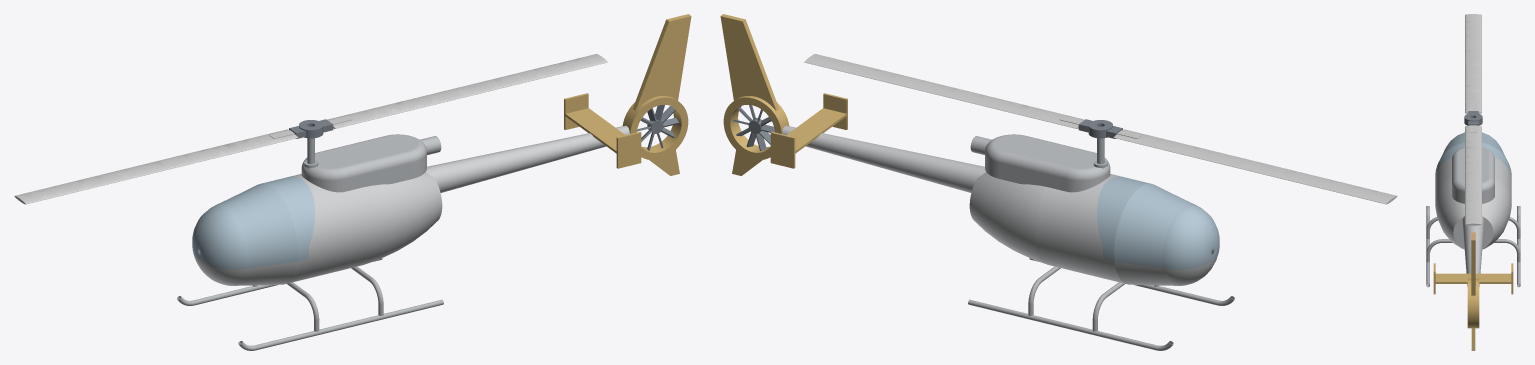
File: step_54.glb
The picture shows the model from 3 angles, left to right: view 1: azimuth 30°, elevation 25°; view 2: azimuth 150°, elevation 25°; view 3: azimuth 270°, elevation 25°; orthographic projection. The views are drawn at different scales.
Visible parts, largest first — view 1: part__fuselage, part__canopy glazing, part__engine cowling, part__fin and fan duct, part__tail boom, part__main rotor blade 2, part__main rotor blade 1, part__horizontal stabiliser, part__skid left, part__tail fan, part__main rotor hub, part__skid right; view 2: part__fuselage, part__canopy glazing, part__engine cowling, part__fin and fan duct, part__tail boom, part__main rotor blade 2, part__main rotor blade 1, part__horizontal stabiliser, part__skid right, part__tail fan, part__main rotor hub, part__skid left; view 3: part__fuselage, part__main rotor blade 1, part__main rotor blade 2, part__engine cowling, part__fin and fan duct, part__horizontal stabiliser, part__tail boom, part__canopy glazing, part__cross tube rear, part__main rotor hub, part__cross tube front, part__skid right (+1 smaller).
Part boxes in pixels (bbox=[...]): part__fuselage: bbox=[194, 172, 442, 285]; part__canopy glazing: bbox=[192, 176, 314, 269]; part__engine cowling: bbox=[301, 134, 441, 192]; part__fin and fan duct: bbox=[622, 14, 691, 175]; part__tail boom: bbox=[426, 125, 629, 192]; part__main rotor blade 2: bbox=[14, 129, 298, 204]; part__main rotor blade 1: bbox=[327, 54, 607, 128]; part__horizontal stabiliser: bbox=[564, 93, 641, 168]; part__skid left: bbox=[238, 299, 443, 350]; part__tail fan: bbox=[637, 105, 679, 150]; part__main rotor hub: bbox=[289, 119, 333, 138]; part__skid right: bbox=[177, 258, 382, 305]; part__fuselage: bbox=[969, 172, 1217, 285]; part__canopy glazing: bbox=[1097, 176, 1219, 269]; part__engine cowling: bbox=[970, 134, 1110, 192]; part__fin and fan duct: bbox=[720, 14, 789, 175]; part__tail boom: bbox=[782, 125, 985, 192]; part__main rotor blade 2: bbox=[1113, 129, 1397, 204]; part__main rotor blade 1: bbox=[804, 54, 1084, 128]; part__horizontal stabiliser: bbox=[770, 93, 847, 168]; part__skid right: bbox=[968, 299, 1173, 350]; part__tail fan: bbox=[733, 105, 774, 150]; part__main rotor hub: bbox=[1078, 119, 1122, 138]; part__skid left: bbox=[1029, 258, 1234, 305]; part__fuselage: bbox=[1435, 157, 1511, 249]; part__main rotor blade 1: bbox=[1465, 125, 1481, 225]; part__main rotor blade 2: bbox=[1465, 14, 1481, 113]; part__engine cowling: bbox=[1452, 147, 1494, 203]; part__fin and fan duct: bbox=[1467, 232, 1479, 350]; part__horizontal stabiliser: bbox=[1433, 263, 1513, 294]; part__tail boom: bbox=[1462, 216, 1484, 286]; part__canopy glazing: bbox=[1435, 132, 1511, 176]; part__cross tube rear: bbox=[1426, 239, 1520, 262]; part__main rotor hub: bbox=[1464, 111, 1482, 125]; part__cross tube front: bbox=[1426, 217, 1520, 239]; part__skid right: bbox=[1517, 206, 1520, 287].
Bounding box in the file's own units: 11970 × 3400 × 1980.
